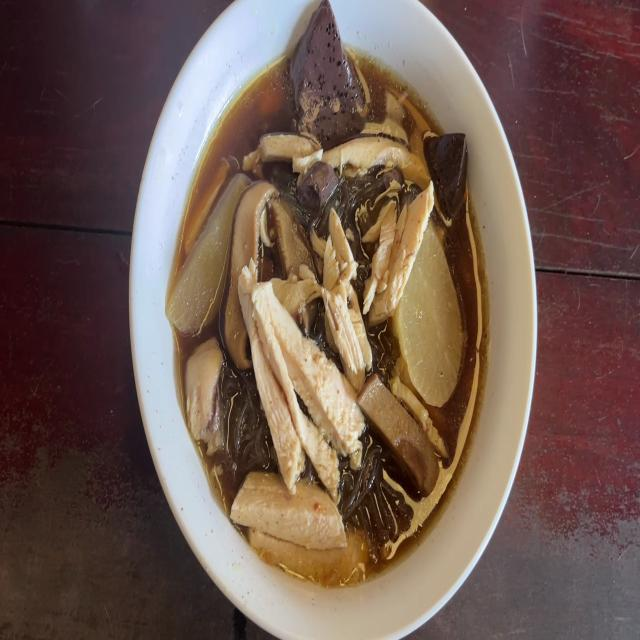boiled_chicken_blood_jelly: (290, 3, 372, 135), (433, 128, 468, 216), (296, 158, 341, 214)
chicken_shredded: (242, 272, 360, 476), (364, 178, 435, 327), (228, 181, 280, 370), (236, 476, 350, 549), (326, 214, 371, 376), (184, 338, 227, 452), (269, 198, 317, 283), (310, 204, 358, 285), (324, 135, 410, 174), (245, 132, 320, 174), (271, 274, 323, 319), (360, 193, 398, 245), (369, 233, 394, 298), (260, 204, 276, 248), (242, 145, 262, 174)
daikon_radish: (172, 180, 237, 328), (198, 172, 249, 242)
noodle: (189, 41, 495, 587)
